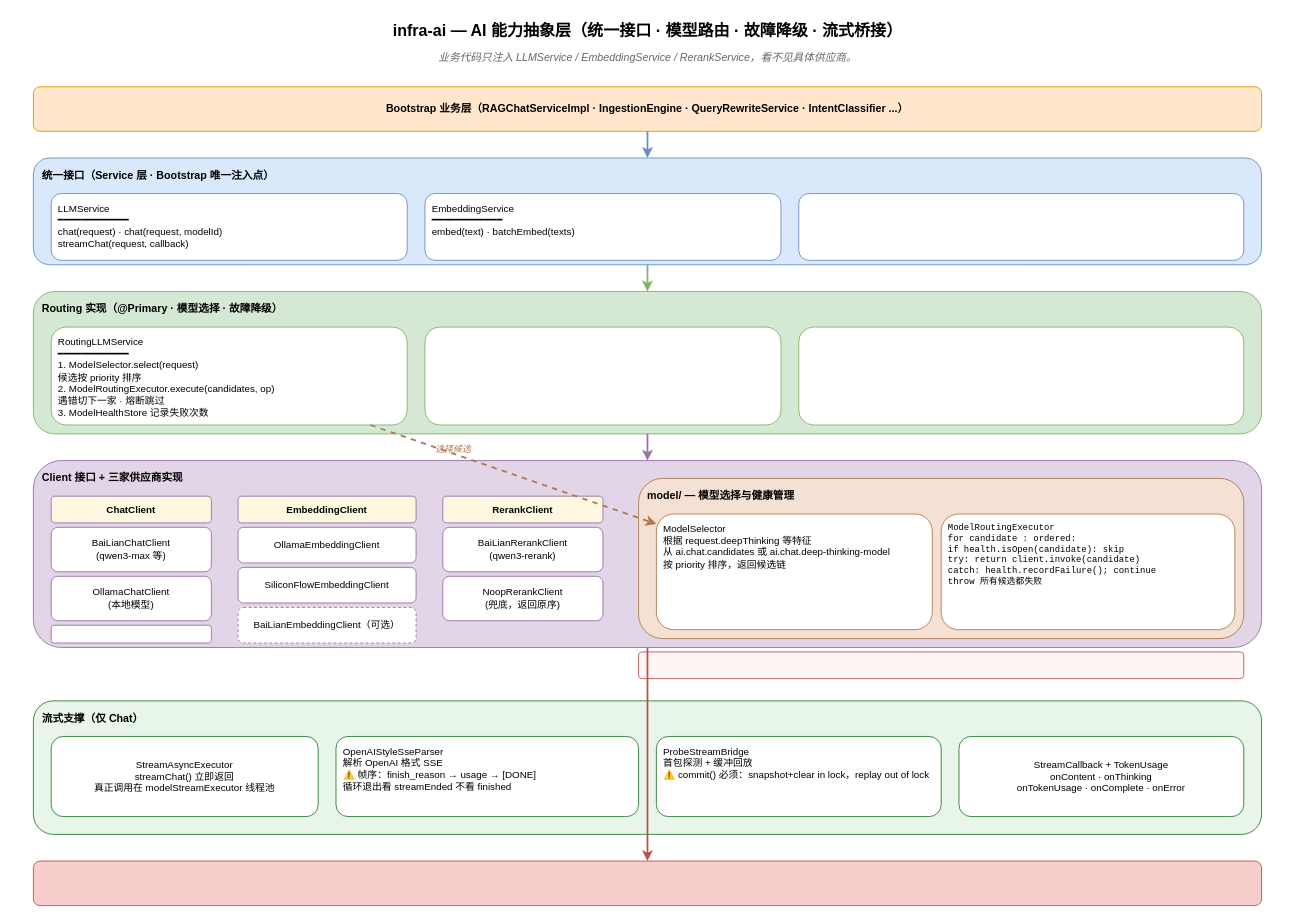
The diagram is 1294 pixels wide and 921 high, and some of its shapes have lost their labels. The shapes that lost their labels are listed below. From the top down, each one's centre as x and y in pixels, then its label:
the point at 1021,226: RerankService ━━━━━━━━━━━━ rerank(query, docs)
the point at 602,375: RoutingEmbeddingService ━━━━━━━━━━━━ 同套选择 + 降级机制 候选来自 ai.embedding.candidates
the point at 1021,375: RoutingRerankService ━━━━━━━━━━━━ 候选用尽退回 NoopRerankClient（保持原序，设计上 graceful）
the point at 130,633: SiliconFlowChatClient
the point at 941,665: model/ModelHealthStore — Redis 熔断状态
the point at 647,883: 外部 LLM 供应商（HTTPS / OpenAI-compatible SSE）
